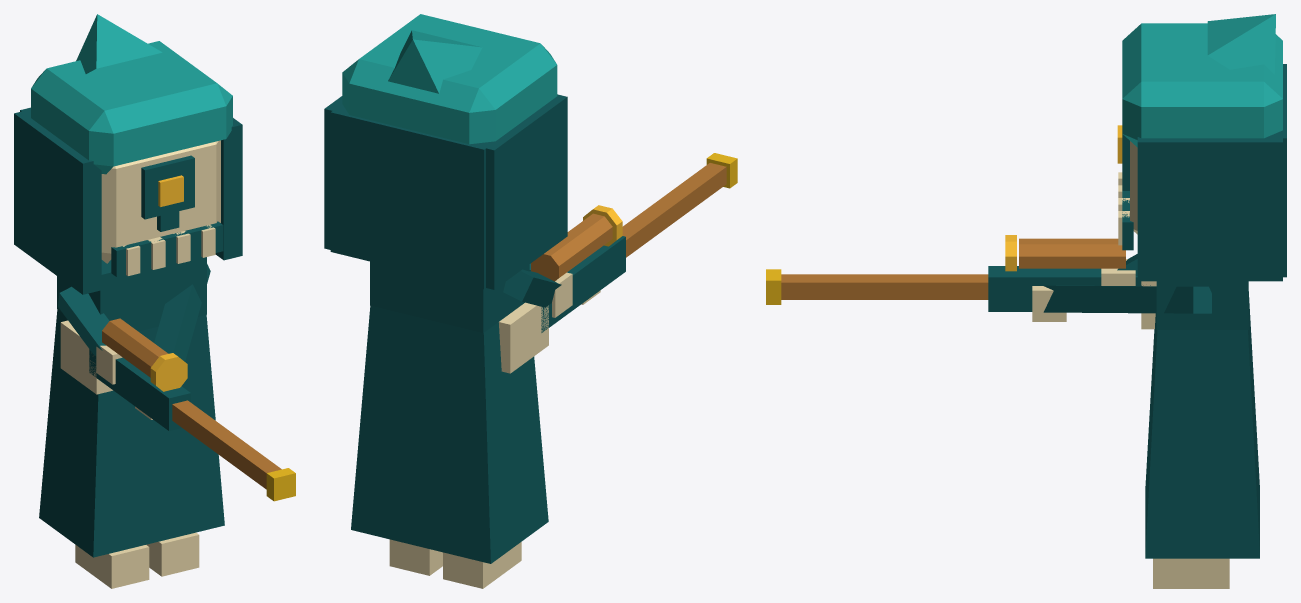
Rendered from sniper_enemy_r5.glb.
3 renders of one model, left to right at view 1: azimuth 30°, elevation 25°; view 2: azimuth 150°, elevation 25°; view 3: azimuth 270°, elevation 25°, orthographic. The views are drawn at different scales.
Parts seen in each view (by area): view 1: sniper_enemy_r5_mesh; view 2: sniper_enemy_r5_mesh; view 3: sniper_enemy_r5_mesh.
Part boxes in pixels (left/top/right/bottom): sniper_enemy_r5_mesh: left=14, top=14, right=295, bottom=588; sniper_enemy_r5_mesh: left=324, top=14, right=737, bottom=588; sniper_enemy_r5_mesh: left=766, top=14, right=1286, bottom=588.
Bounding box in the file's own units: 0.5449 × 1.7 × 1.45.
Materials: 1 (1 with a texture image).
